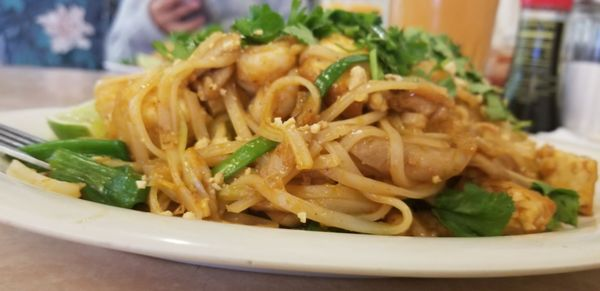curry: (430, 181, 515, 236), (229, 3, 286, 44)
